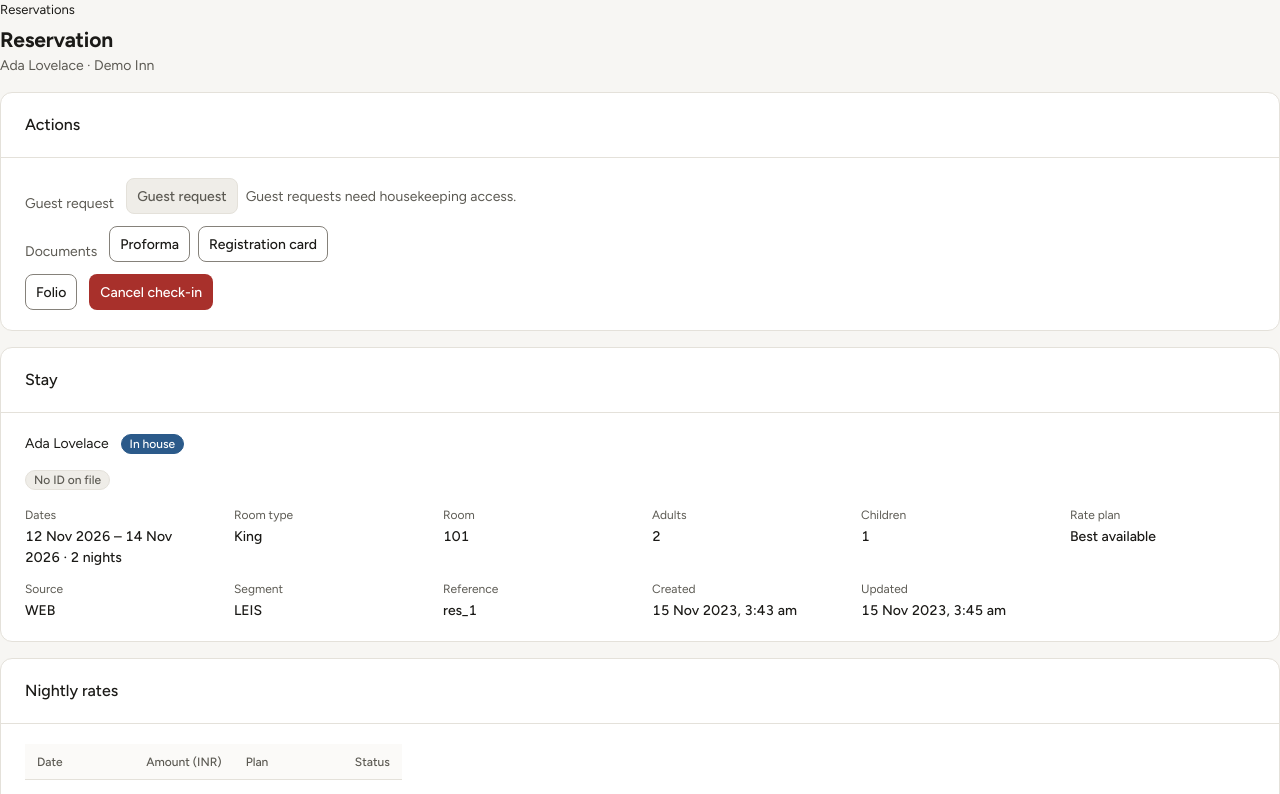
Scenario: ReservationStayScreen › checked-in without change_in_house hides Modify and Change stay; offers cancel check-in
Click the button with test id "stay-cancel-check-in".
click(151, 292)  # box top-left (89, 274), bottom-right (213, 310)
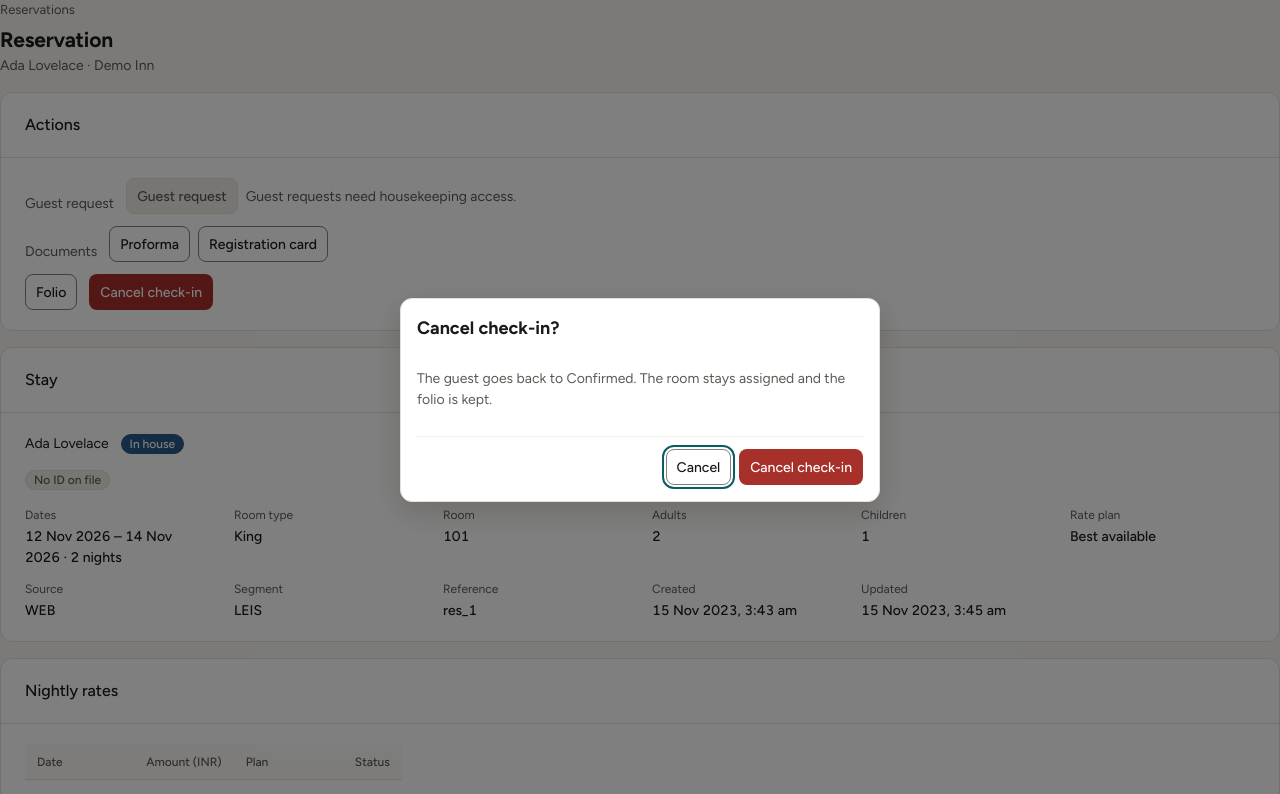
Check: the text "The guest goes back to Confirmed. The room stays assigned and the folio is kept." is shown, box top-left (417, 368), bottom-right (863, 410)
